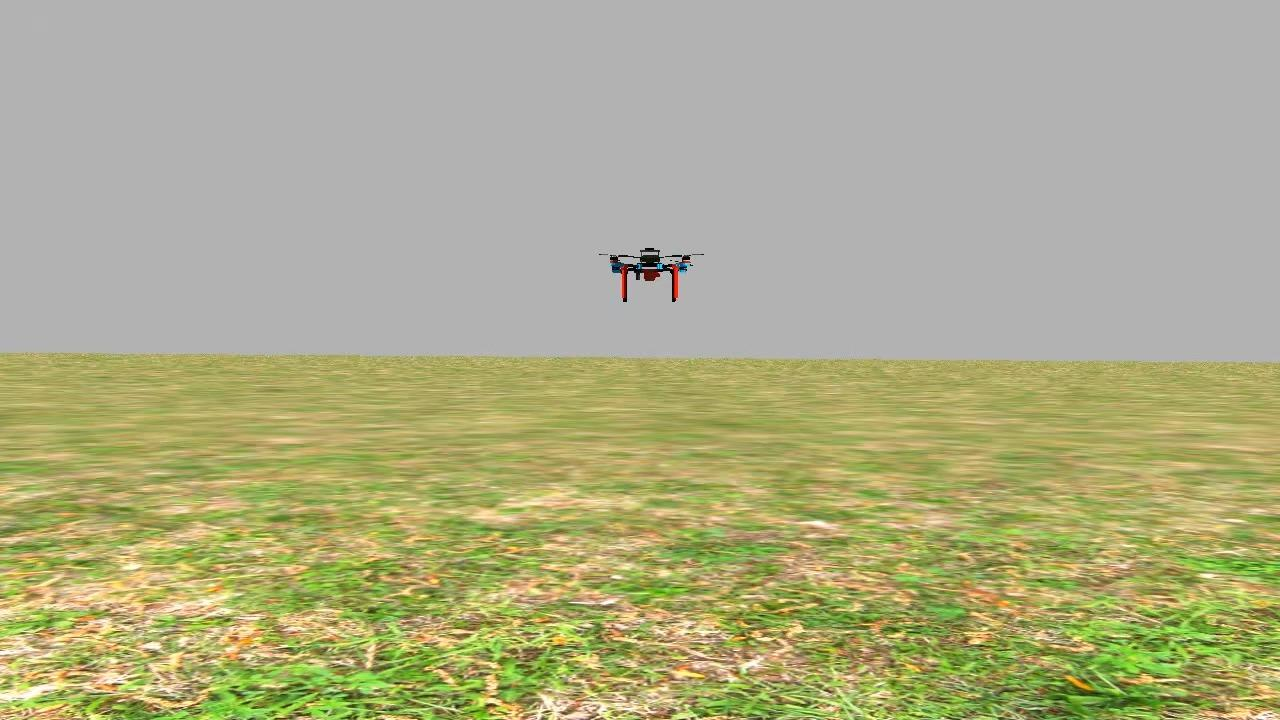UAV: (596, 240, 706, 312)
